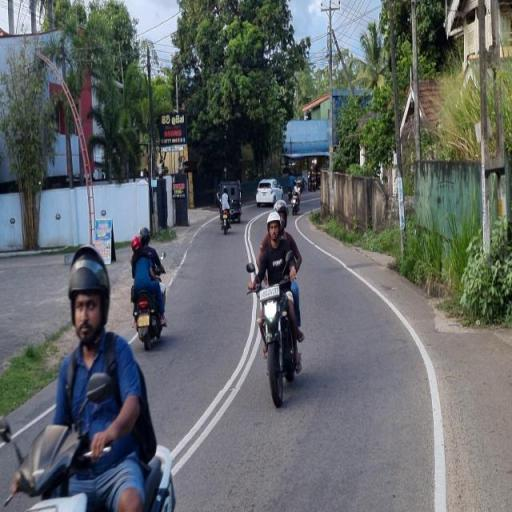double_white_line: (167, 326, 259, 474)
